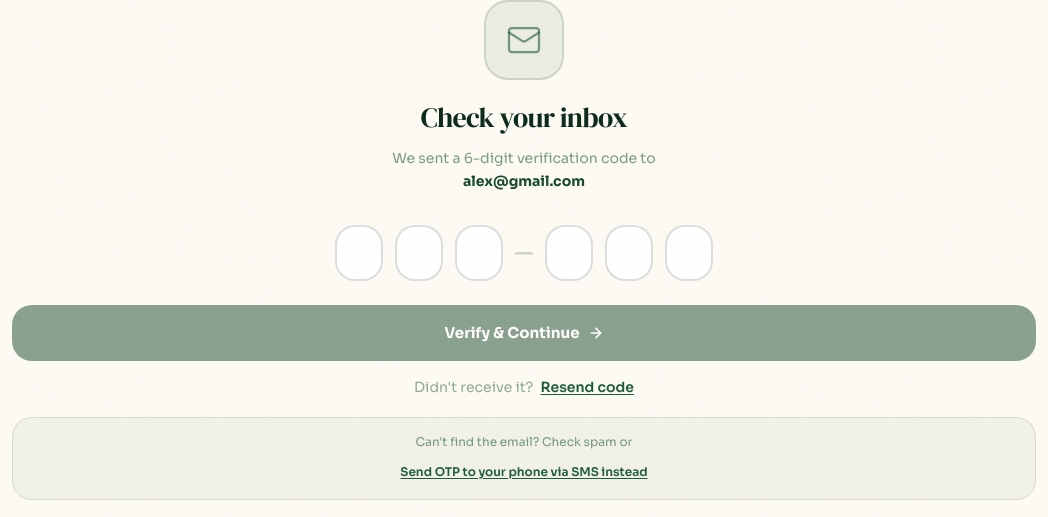
Test: Step3Verify › Resend Code Functionality › countdown decreases every second
Click the button "Resend code": (587, 386) x1=541 y1=376 x2=634 y2=396
Wait 2000 ms
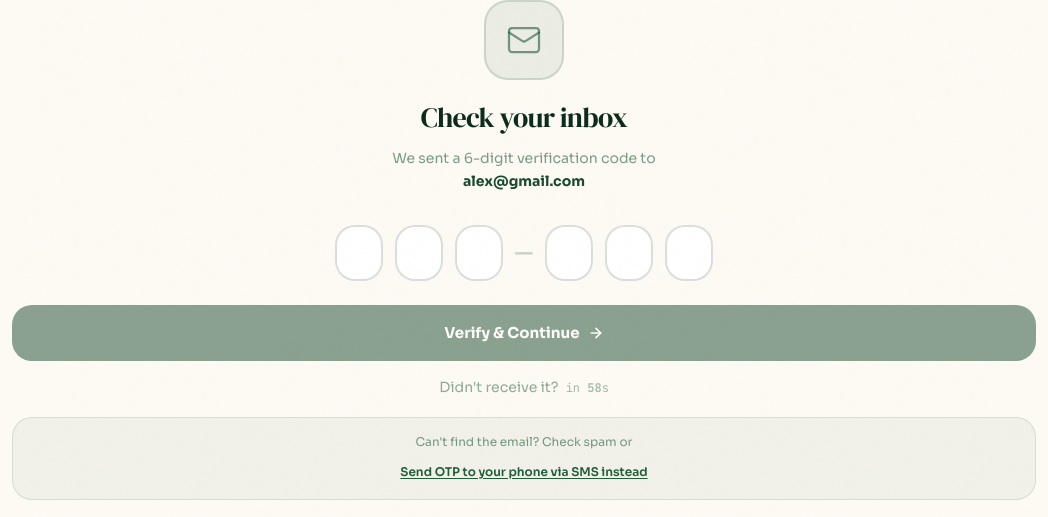
Check: the text "58" is shown, box x1=587 y1=380 x2=602 y2=396
